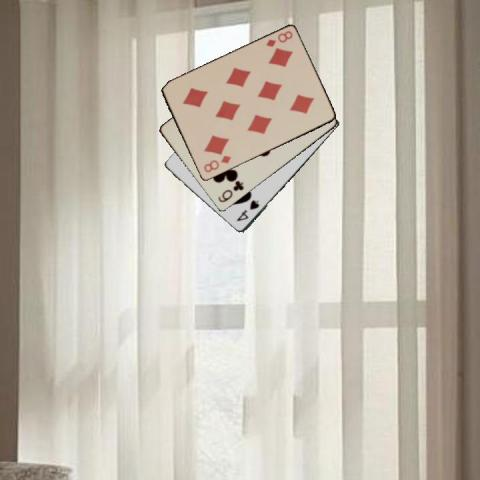4s: (233, 197, 261, 223)
6c: (216, 178, 246, 204)
8d: (200, 153, 232, 174), (263, 28, 294, 49)
